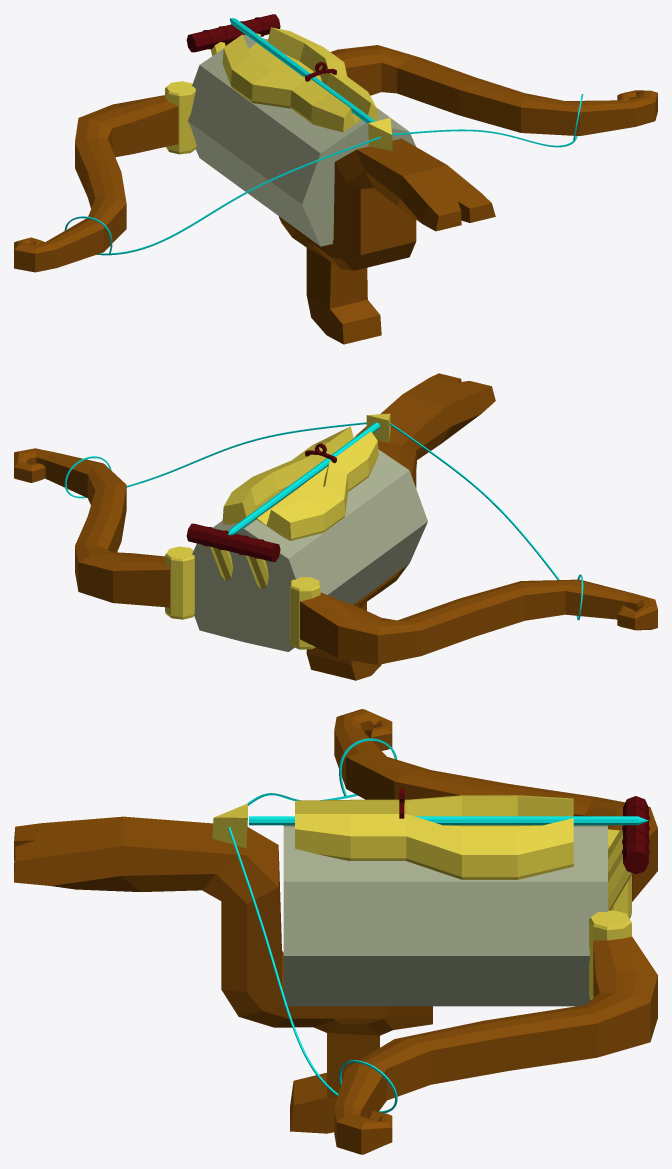
The model's file is kruisboog.fbx.
The picture shows the model from 3 angles, top to bottom: view 1: azimuth 30°, elevation 25°; view 2: azimuth 150°, elevation 25°; view 3: azimuth 270°, elevation 25°; orthographic projection. The views are drawn at different scales.
Visible parts, largest first — view 1: Cube.001, Cube.002, Cylinder, Cube, Cube.005, Cylinder.003, Cylinder.001, Cylinder.005, Cube.004; view 2: Cube.001, Cylinder, Cube, Cube.002, Cylinder.001, Cylinder.003, Cube.005, Cylinder.005, Cylinder.002, Cube.004; view 3: Cylinder, Cube.002, Cube.001, Cube, Cylinder.005, Cylinder.001, Cube.005, Cylinder.003, Cube.004, Cylinder.002.
Part boxes in pixels (x1=…): Cube.001: x1=14, y1=45, x2=657, y2=272; Cube.002: x1=278, y1=138, x2=495, y2=344; Cylinder: x1=188, y1=34, x2=415, y2=246; Cube: x1=222, y1=27, x2=378, y2=131; Cube.005: x1=64, y1=94, x2=583, y2=255; Cylinder.003: x1=186, y1=14, x2=280, y2=52; Cylinder.001: x1=165, y1=81, x2=196, y2=154; Cylinder.005: x1=230, y1=18, x2=375, y2=123; Cube.004: x1=368, y1=118, x2=392, y2=150; Cube.001: x1=14, y1=448, x2=657, y2=664; Cylinder: x1=192, y1=449, x2=427, y2=651; Cube: x1=222, y1=426, x2=378, y2=540; Cube.002: x1=306, y1=373, x2=495, y2=680; Cylinder.001: x1=165, y1=546, x2=320, y2=649; Cylinder.003: x1=186, y1=523, x2=280, y2=561; Cube.005: x1=64, y1=422, x2=583, y2=620; Cylinder.005: x1=228, y1=422, x2=380, y2=535; Cylinder.002: x1=210, y1=546, x2=268, y2=589; Cube.004: x1=366, y1=413, x2=390, y2=442; Cylinder: x1=283, y1=825, x2=607, y2=1006; Cube.002: x1=14, y1=816, x2=432, y2=1133; Cube.001: x1=334, y1=709, x2=657, y2=1154; Cube: x1=295, y1=795, x2=573, y2=879; Cylinder.005: x1=249, y1=816, x2=648, y2=825; Cylinder.001: x1=589, y1=829, x2=631, y2=999; Cube.005: x1=228, y1=738, x2=397, y2=1113; Cylinder.003: x1=622, y1=796, x2=649, y2=874; Cube.004: x1=212, y1=803, x2=247, y2=848; Cylinder.002: x1=608, y1=826, x2=632, y2=910.
Bounding box in the file's own units: 1022 × 375 × 661.
